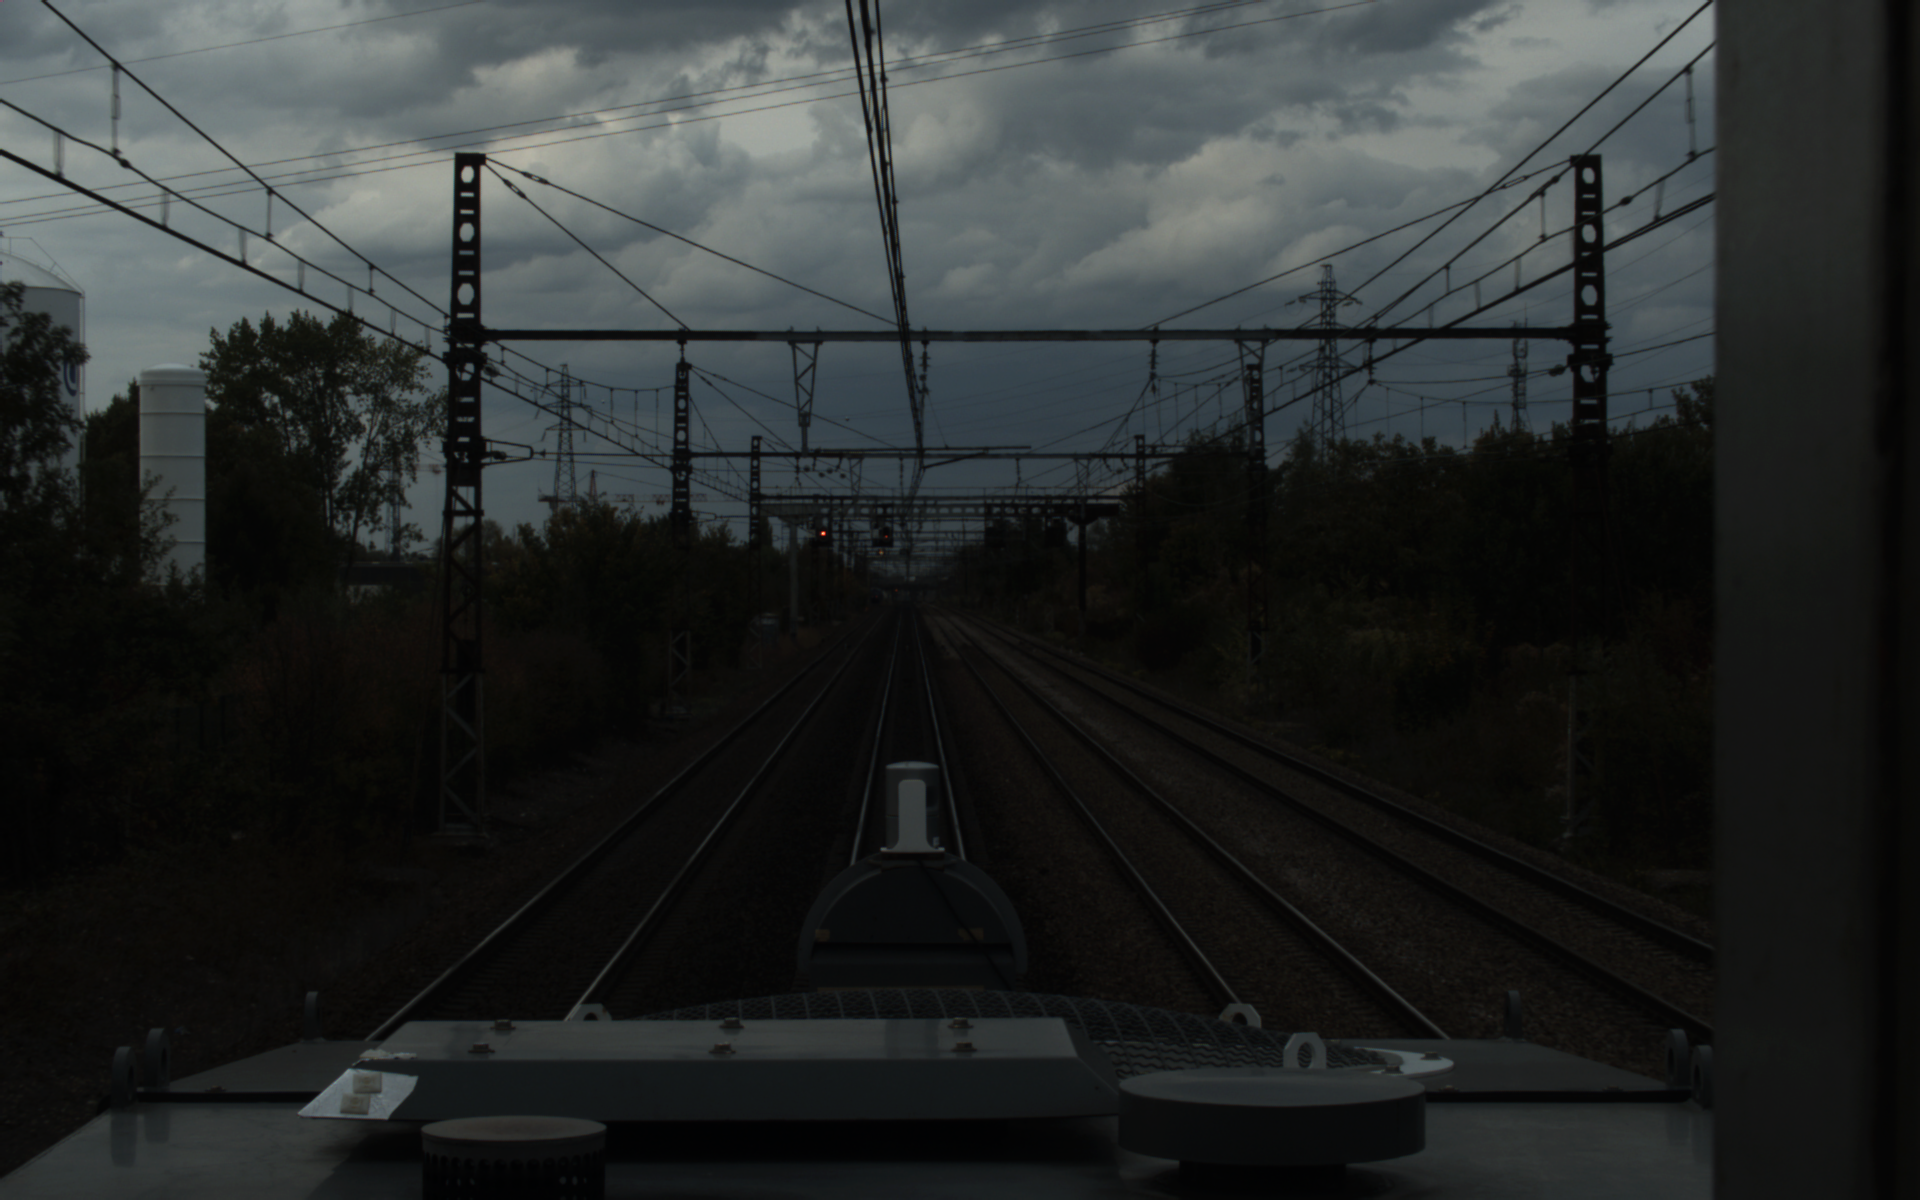Blinking: (878, 524, 892, 543)
Fixed: (817, 523, 829, 541)
